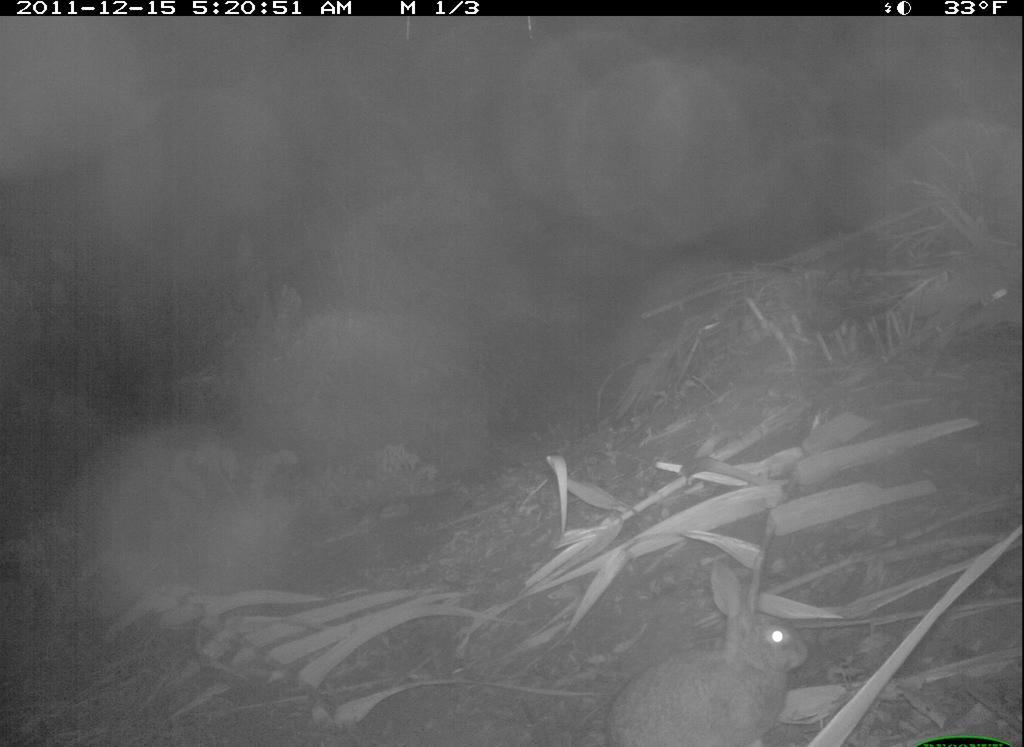rabbit: (593, 555, 811, 745)
